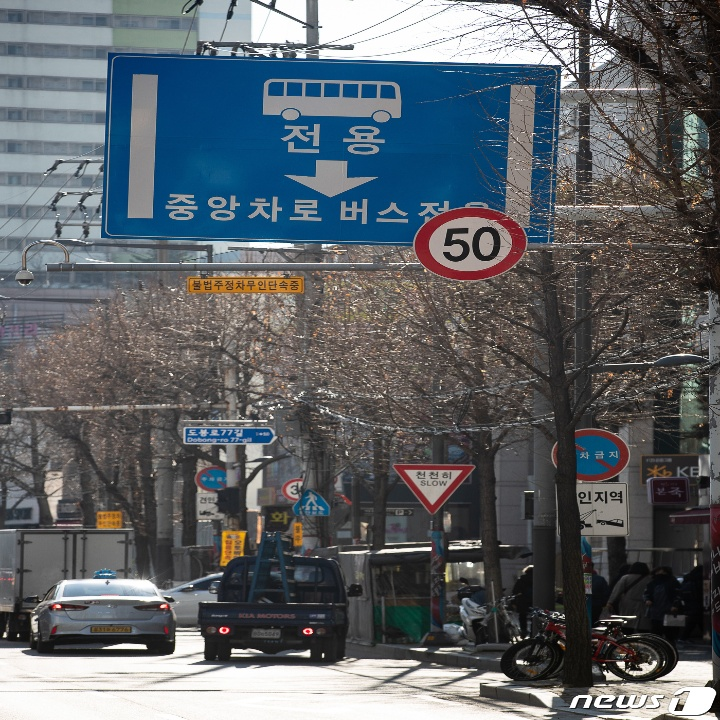bus: (253, 65, 411, 125)
